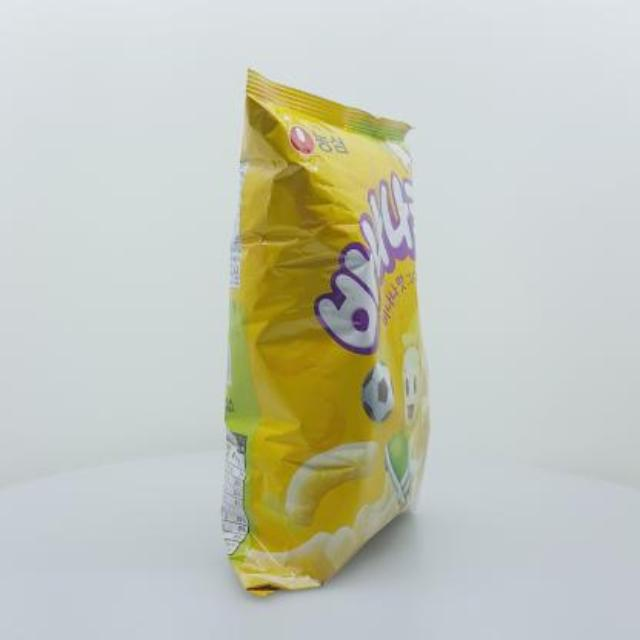snack_bag: (213, 54, 457, 610)
